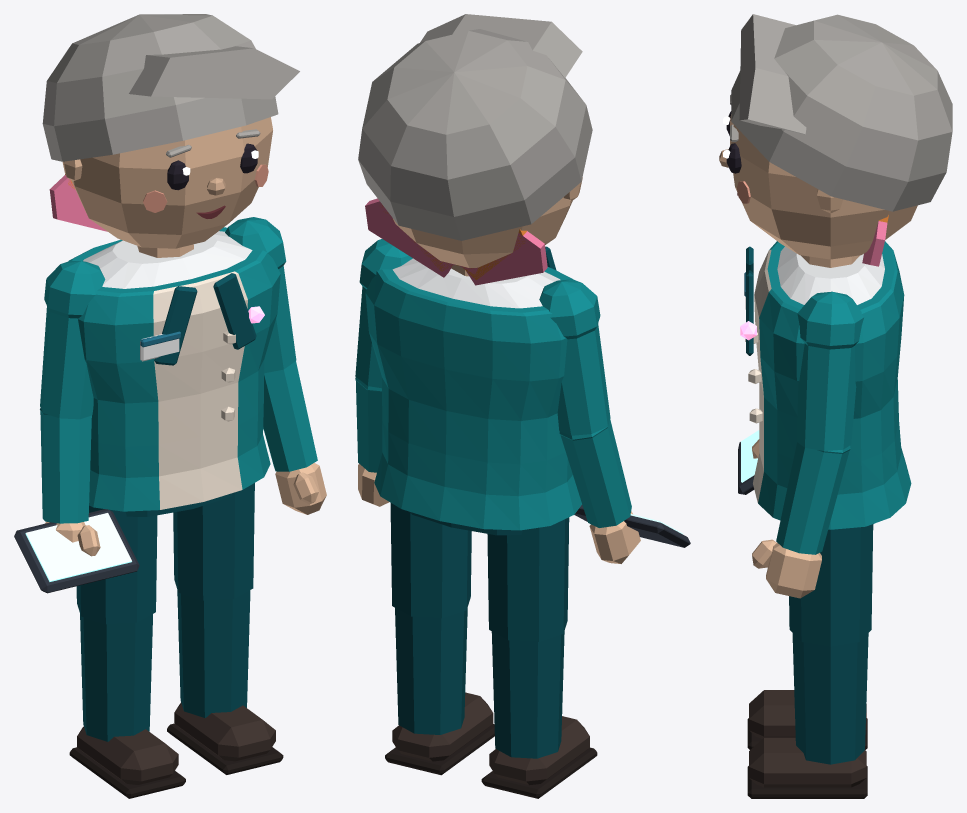
File: man_cor.glb
The picture shows the model from 3 angles, left to right: view 1: azimuth 30°, elevation 25°; view 2: azimuth 150°, elevation 25°; view 3: azimuth 270°, elevation 25°; orthographic projection.
Parts seen in each view (by area): view 1: jacke, haare, bein_l, kopf, bein_r, arm_r, arm_l, gegenstand_terminal, schuh_l, schuh_r, torso, revers (+6 smaller); view 2: jacke, haare, bein_r, bein_l, arm_r, arm_l, schuh_r, schuh_l, kragen, kopf, torso, hand_r (+2 smaller); view 3: haare, jacke, bein_l, arm_l, kopf, schuh_l, torso, hand_l, schuh_r, gesicht, gegenstand_terminal, revers (+2 smaller).
Boxes of the visible parts, <box> form: jacke: <box>68,227,280,511</box>; haare: <box>42,14,299,161</box>; bein_l: <box>173,483,254,717</box>; kopf: <box>62,117,272,248</box>; bein_r: <box>76,505,157,741</box>; arm_r: <box>40,261,105,523</box>; arm_l: <box>225,217,317,471</box>; gegenstand_terminal: <box>14,509,139,593</box>; schuh_l: <box>167,702,283,774</box>; schuh_r: <box>69,726,185,798</box>; torso: <box>83,231,252,288</box>; revers: <box>154,273,256,365</box>; jacke: <box>365,267,581,530</box>; haare: <box>358,14,592,240</box>; bein_r: <box>487,517,569,758</box>; bein_l: <box>390,503,471,734</box>; arm_r: <box>539,279,631,527</box>; arm_l: <box>355,239,412,472</box>; schuh_r: <box>481,716,597,798</box>; schuh_l: <box>385,692,494,775</box>; kragen: <box>365,198,547,285</box>; kopf: <box>393,177,582,267</box>; torso: <box>392,258,560,308</box>; hand_r: <box>589,511,640,563</box>; haare: <box>731,14,952,211</box>; jacke: <box>753,241,911,529</box>; bein_l: <box>789,525,873,764</box>; arm_l: <box>776,291,864,554</box>; kopf: <box>730,114,917,259</box>; schuh_l: <box>747,737,867,798</box>; torso: <box>777,246,884,304</box>; hand_l: <box>752,539,821,598</box>; schuh_r: <box>747,690,867,749</box>; gesicht: <box>719,94,750,203</box>; gegenstand_terminal: <box>738,430,759,494</box>; revers: <box>746,246,753,355</box>.
Bounding box in the file's own units: 0.012 × 0.0276 × 0.00798.
